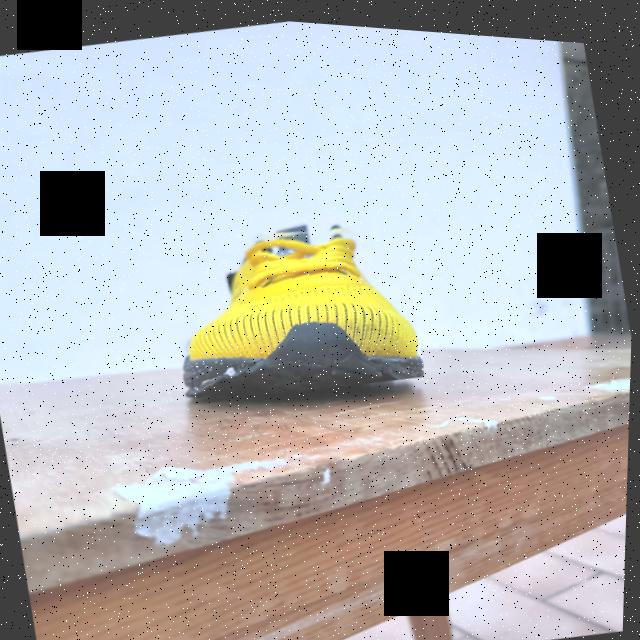shoe: (156, 192, 432, 416)
